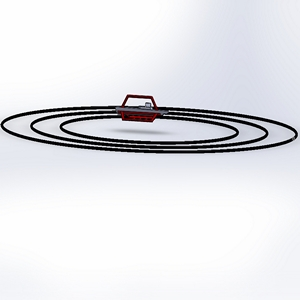circle: (1, 81, 300, 168)
submarine: (107, 87, 173, 130)
